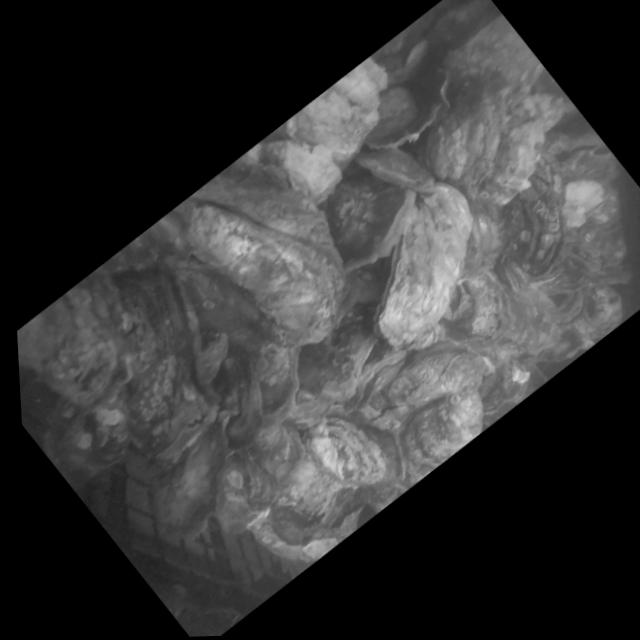Oyster-Closed: (160, 133, 390, 368), (35, 247, 268, 478), (318, 169, 527, 365), (293, 145, 440, 282), (372, 323, 498, 437), (219, 327, 332, 438), (342, 67, 450, 166), (295, 314, 401, 411), (348, 123, 439, 214)
Oyster-Indeterminate: (374, 9, 581, 204), (14, 276, 161, 449), (454, 151, 611, 302), (441, 72, 601, 215), (120, 418, 268, 555), (276, 52, 420, 182), (26, 362, 160, 488), (228, 113, 348, 229), (461, 261, 574, 374), (392, 370, 507, 474), (185, 439, 294, 545), (296, 400, 401, 507), (248, 449, 356, 550), (190, 360, 288, 454), (234, 408, 322, 494)
Oyster-Open: (331, 337, 424, 418)
